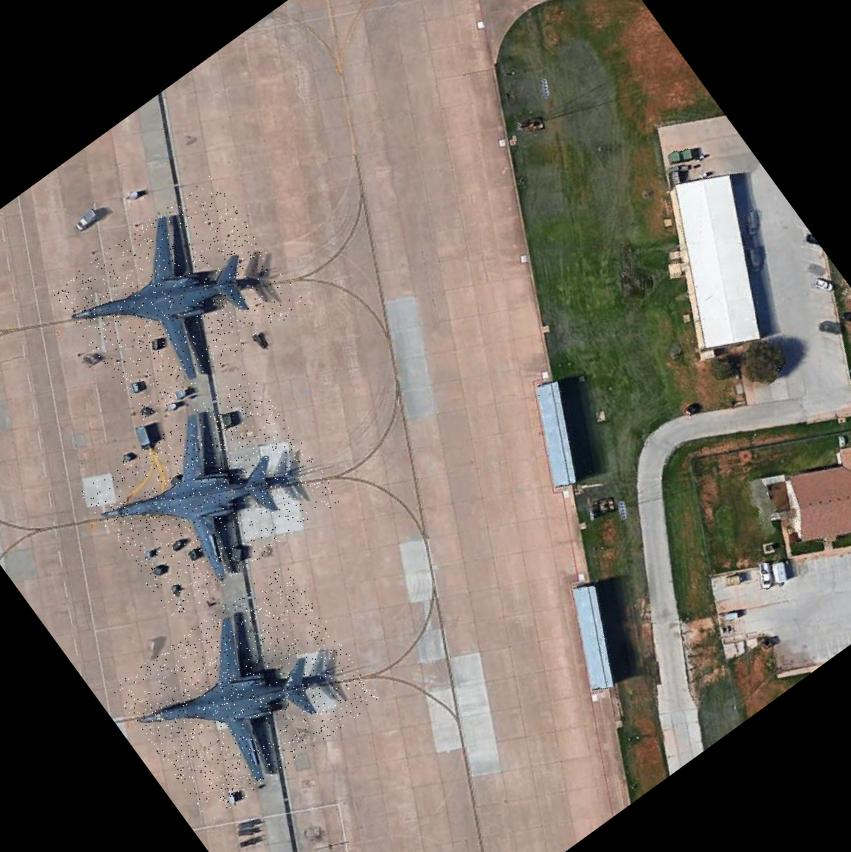A10: (110, 561, 382, 823), (80, 369, 342, 621), (50, 174, 306, 422)
